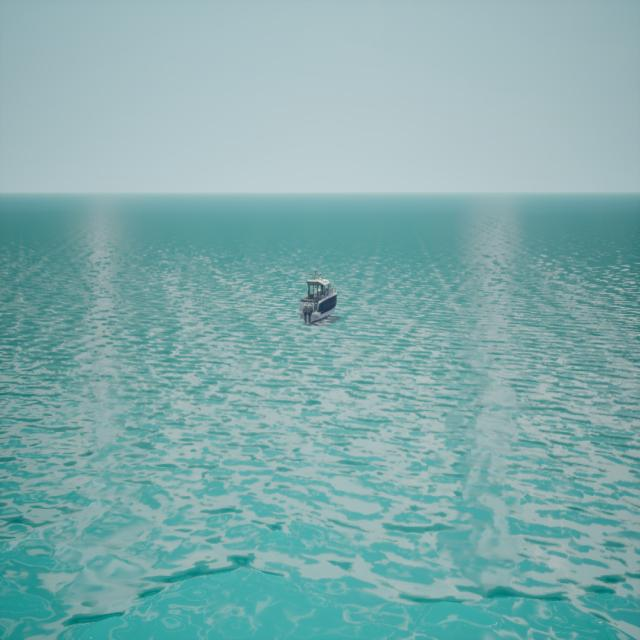ship: (300, 269, 337, 324)
